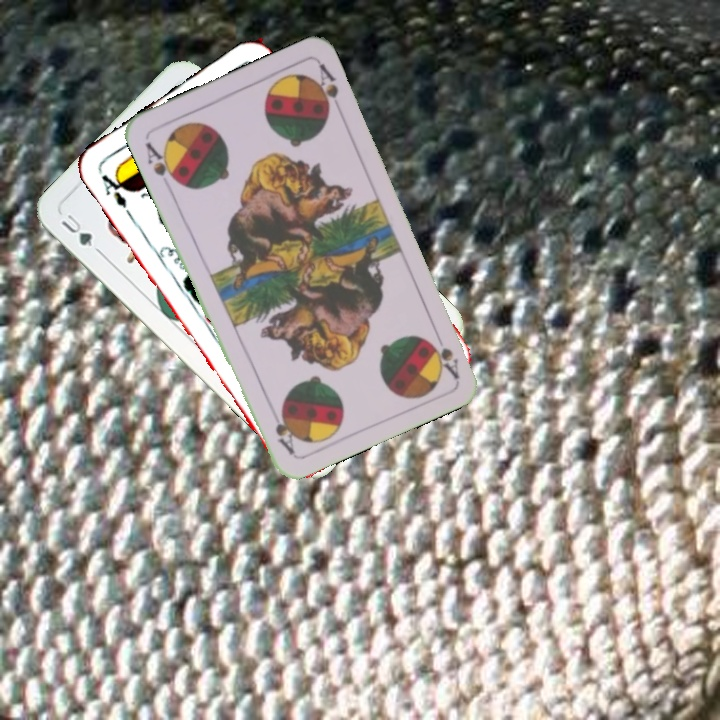EA: (97, 167, 132, 211)
GU: (57, 210, 95, 250)
SA: (141, 138, 182, 192), (427, 325, 462, 381)
